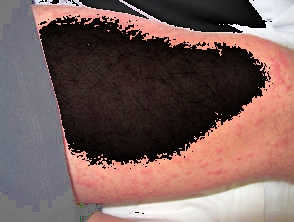SJS-TEN: (26, 0, 294, 210)
